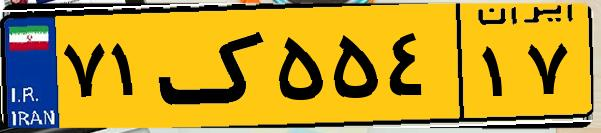1: (475, 38, 525, 113), (110, 28, 158, 98)
4: (385, 28, 445, 110)
5: (270, 28, 330, 110), (330, 28, 385, 110)
7: (57, 26, 110, 100), (525, 38, 570, 115)
ک: (158, 12, 270, 120)
